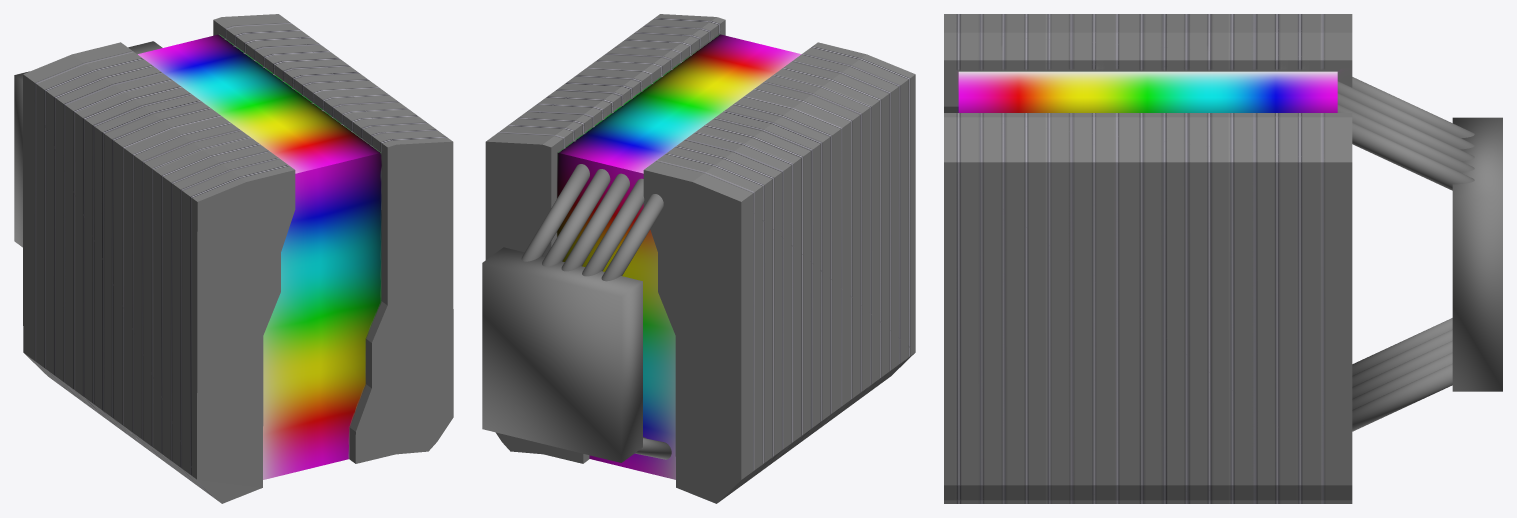
The model's file is Culler.fbx.
3 views of the same model, side by side, from view 1: azimuth 30°, elevation 25°; view 2: azimuth 150°, elevation 25°; view 3: azimuth 270°, elevation 25° (orthographic). The views are drawn at different scales.
Visible parts, largest first — view 1: Culler; view 2: Culler; view 3: Culler.
Boxes of the visible parts, <box> form: Culler: <box>14,14,453,503</box>; Culler: <box>482,14,915,503</box>; Culler: <box>944,14,1502,503</box>.
Size of the model in its own units: 26.52 by 31.32 by 42.77.
Materials: 1 (1 with a texture image).
